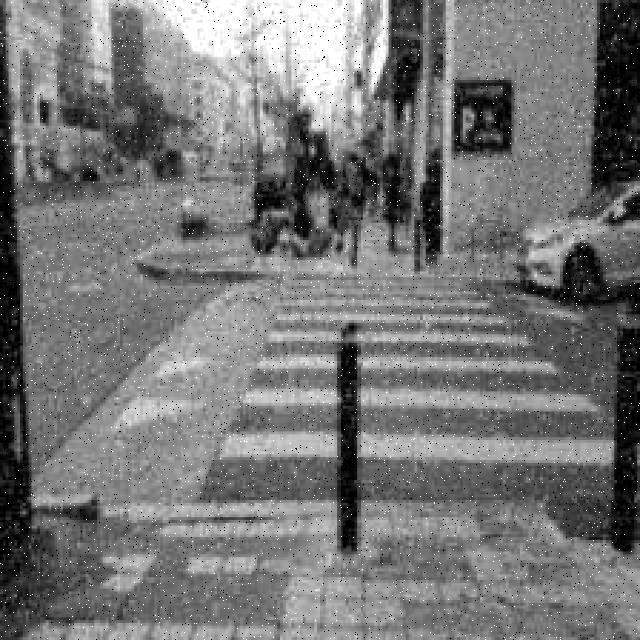crosswalk: (181, 256, 618, 639)
